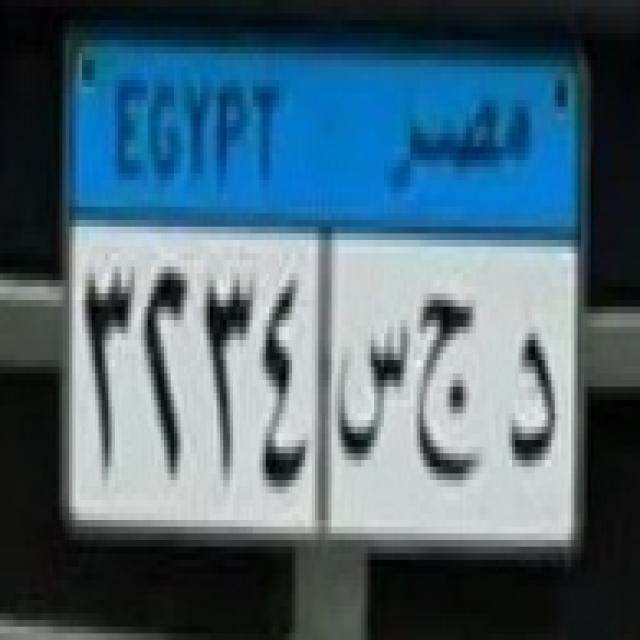2: (134, 248, 198, 483)
3: (78, 248, 142, 491), (198, 268, 255, 486)
4: (249, 270, 309, 493)
Seen: (334, 296, 406, 469)
daal: (504, 311, 564, 478)
geem: (407, 285, 488, 488)
